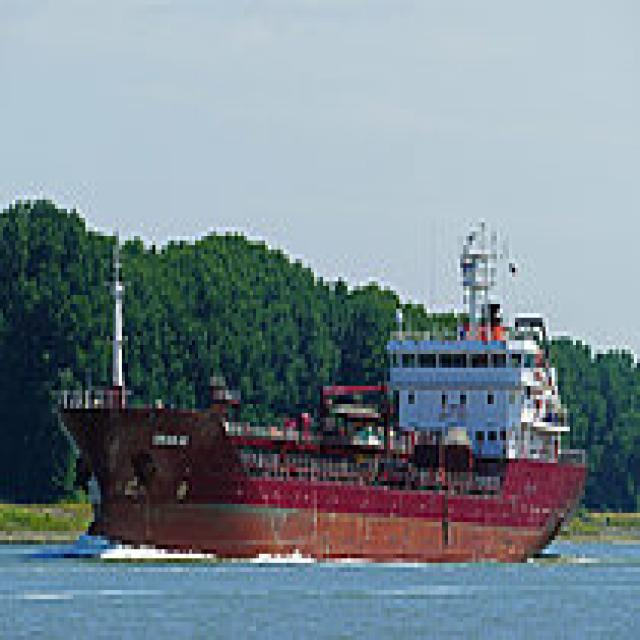Tanker: (40, 218, 588, 563)
